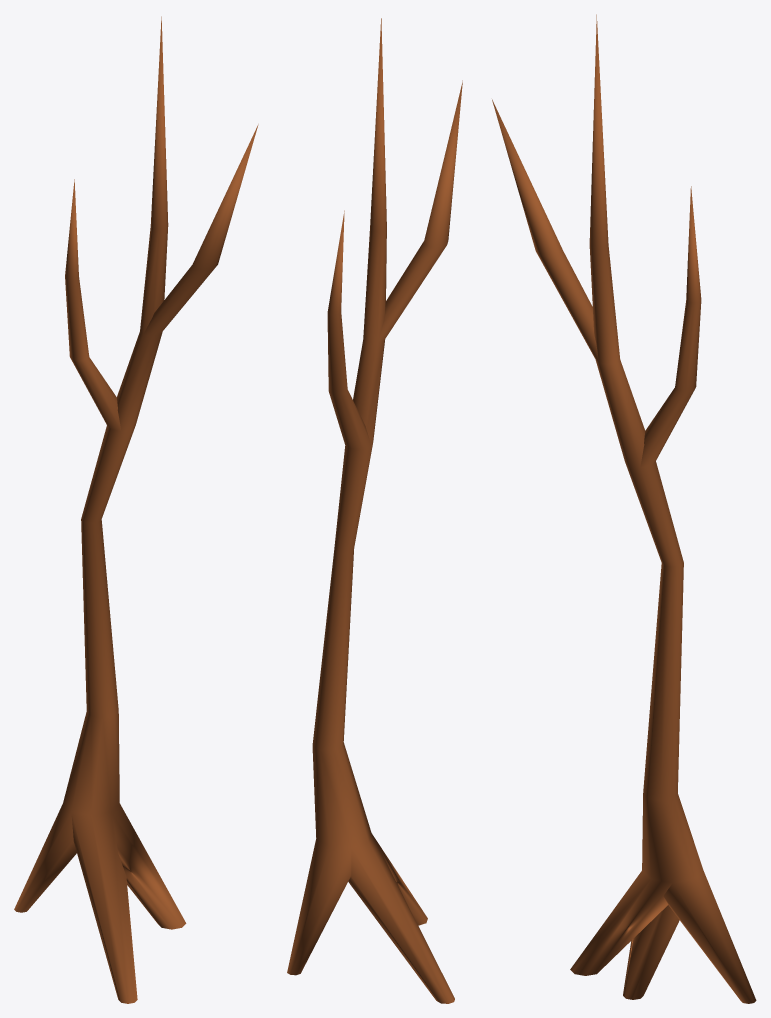
File: pohon_tanpadaun.fbx
3 views of the same model, side by side, from view 1: azimuth 90°, elevation 25°; view 2: azimuth 150°, elevation 25°; view 3: azimuth 270°, elevation 25° (orthographic). The views are drawn at different scales.
Visible parts, largest first — view 1: Cylinder.001; view 2: Cylinder.001; view 3: Cylinder.001.
Part boxes in pixels (x1=…): Cylinder.001: x1=14, y1=16, x2=258, y2=1003; Cylinder.001: x1=287, y1=18, x2=462, y2=1003; Cylinder.001: x1=492, y1=14, x2=756, y2=1003.
Bounding box in the file's own units: 272 × 1944 × 456.
